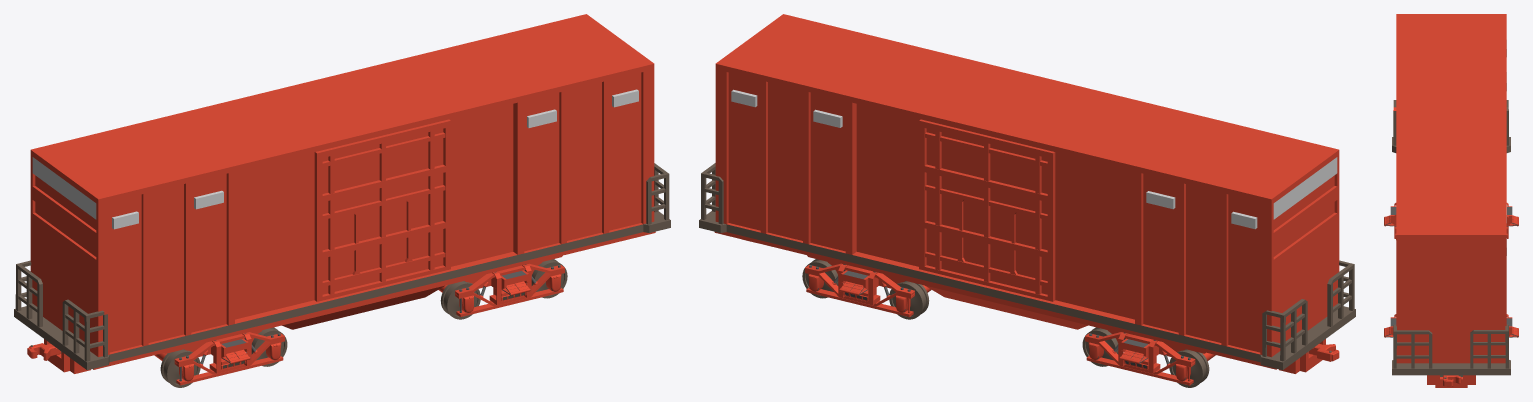
Rendered from trainBoxcar.fbx.
The picture shows the model from 3 angles, left to right: view 1: azimuth 30°, elevation 25°; view 2: azimuth 150°, elevation 25°; view 3: azimuth 270°, elevation 25°; orthographic projection. The views are drawn at different scales.
Parts seen in each view (by area): view 1: Train Boxcar; view 2: Train Boxcar; view 3: Train Boxcar.
Part boxes in pixels (x1,y1,x2,y2): Train Boxcar: (14,14,670,387); Train Boxcar: (699,14,1355,387); Train Boxcar: (1384,14,1518,387).
Size of the model in its own units: 1475 by 345 by 494.
